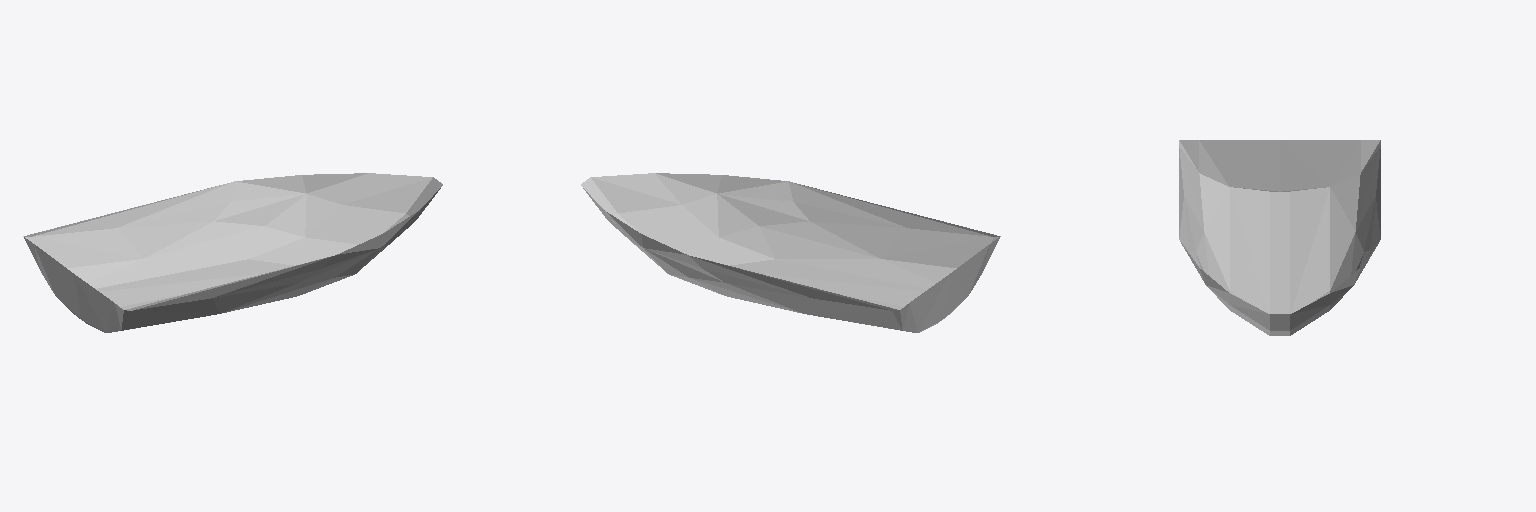
Rendered from boat.obj.
3 views of the same model, side by side, from view 1: azimuth 30°, elevation 25°; view 2: azimuth 150°, elevation 25°; view 3: azimuth 270°, elevation 25° (orthographic).
Parts seen in each view (by area): view 1: Hull_Cube.002; view 2: Hull_Cube.002; view 3: Hull_Cube.002.
Part boxes in pixels (x1,y1,x2,y2): Hull_Cube.002: (23, 173, 442, 332); Hull_Cube.002: (581, 173, 1000, 332); Hull_Cube.002: (1179, 140, 1380, 335).
Size of the model in its own units: 8.36 by 1.34 by 4.